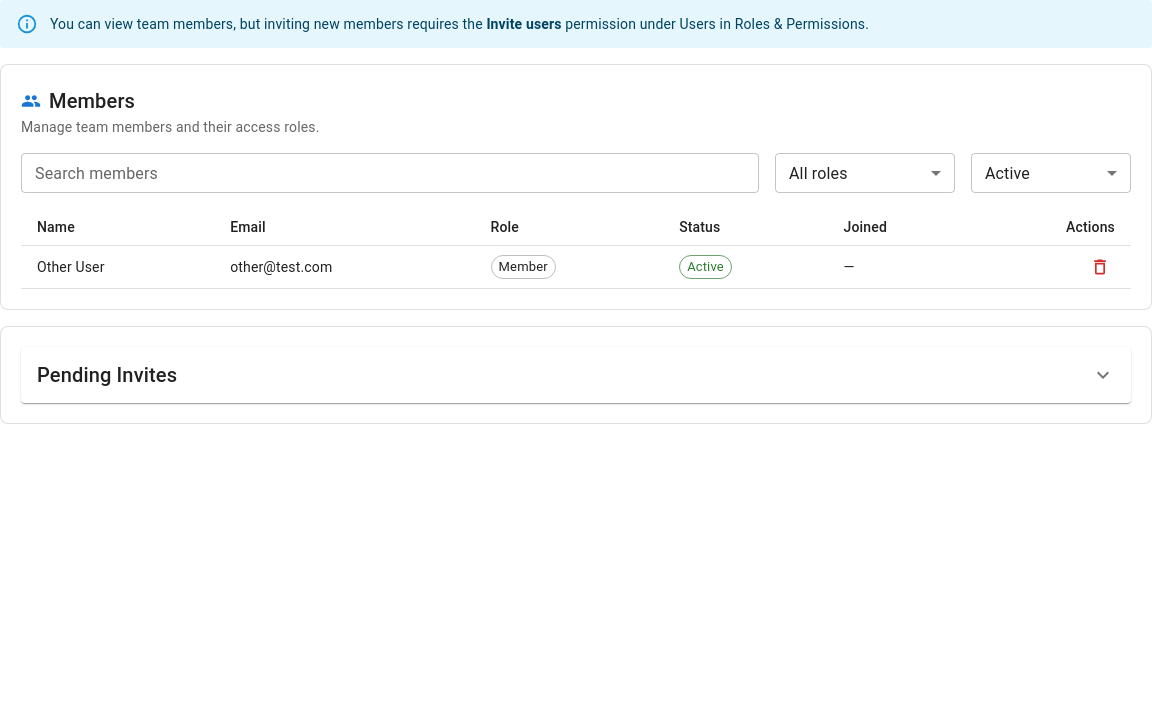
it: UsersPage member management › shows delete confirmation for removable member
Click the button named "remove member" at [1100, 267], box [1085,252,1115,282]
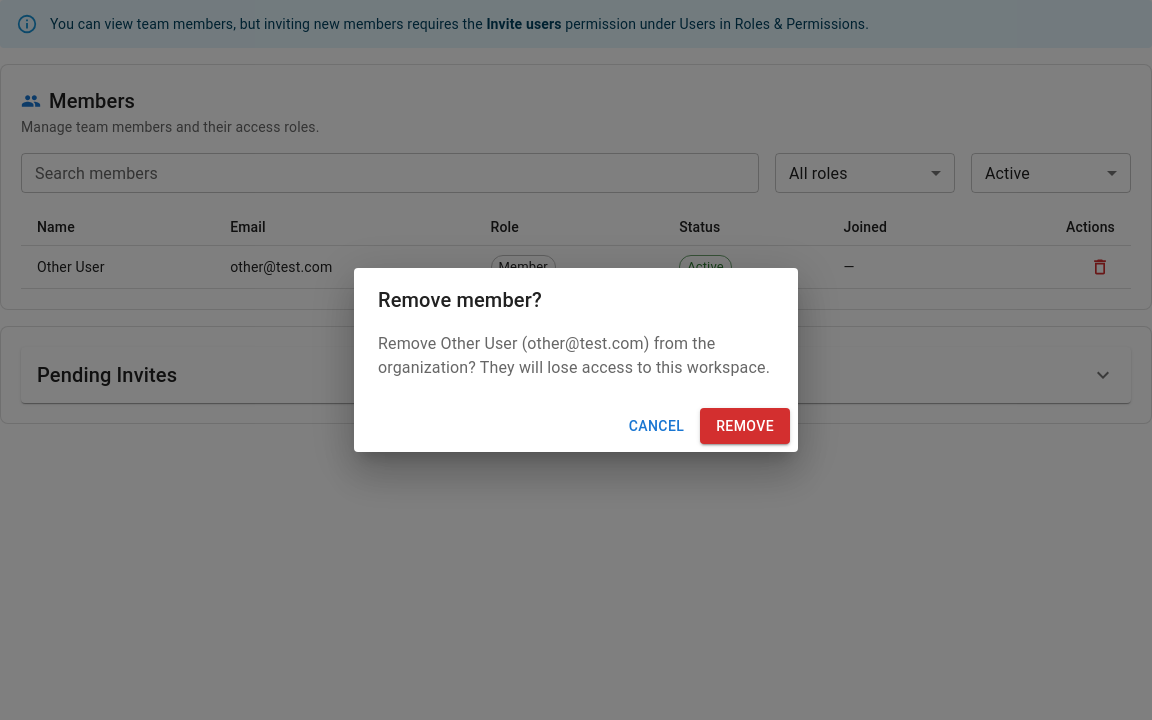
Check: the dialog "Remove member" is shown, box [354,268,798,452]
Check: the text "lose access to this workspace" is shown, box [378,334,770,377]
